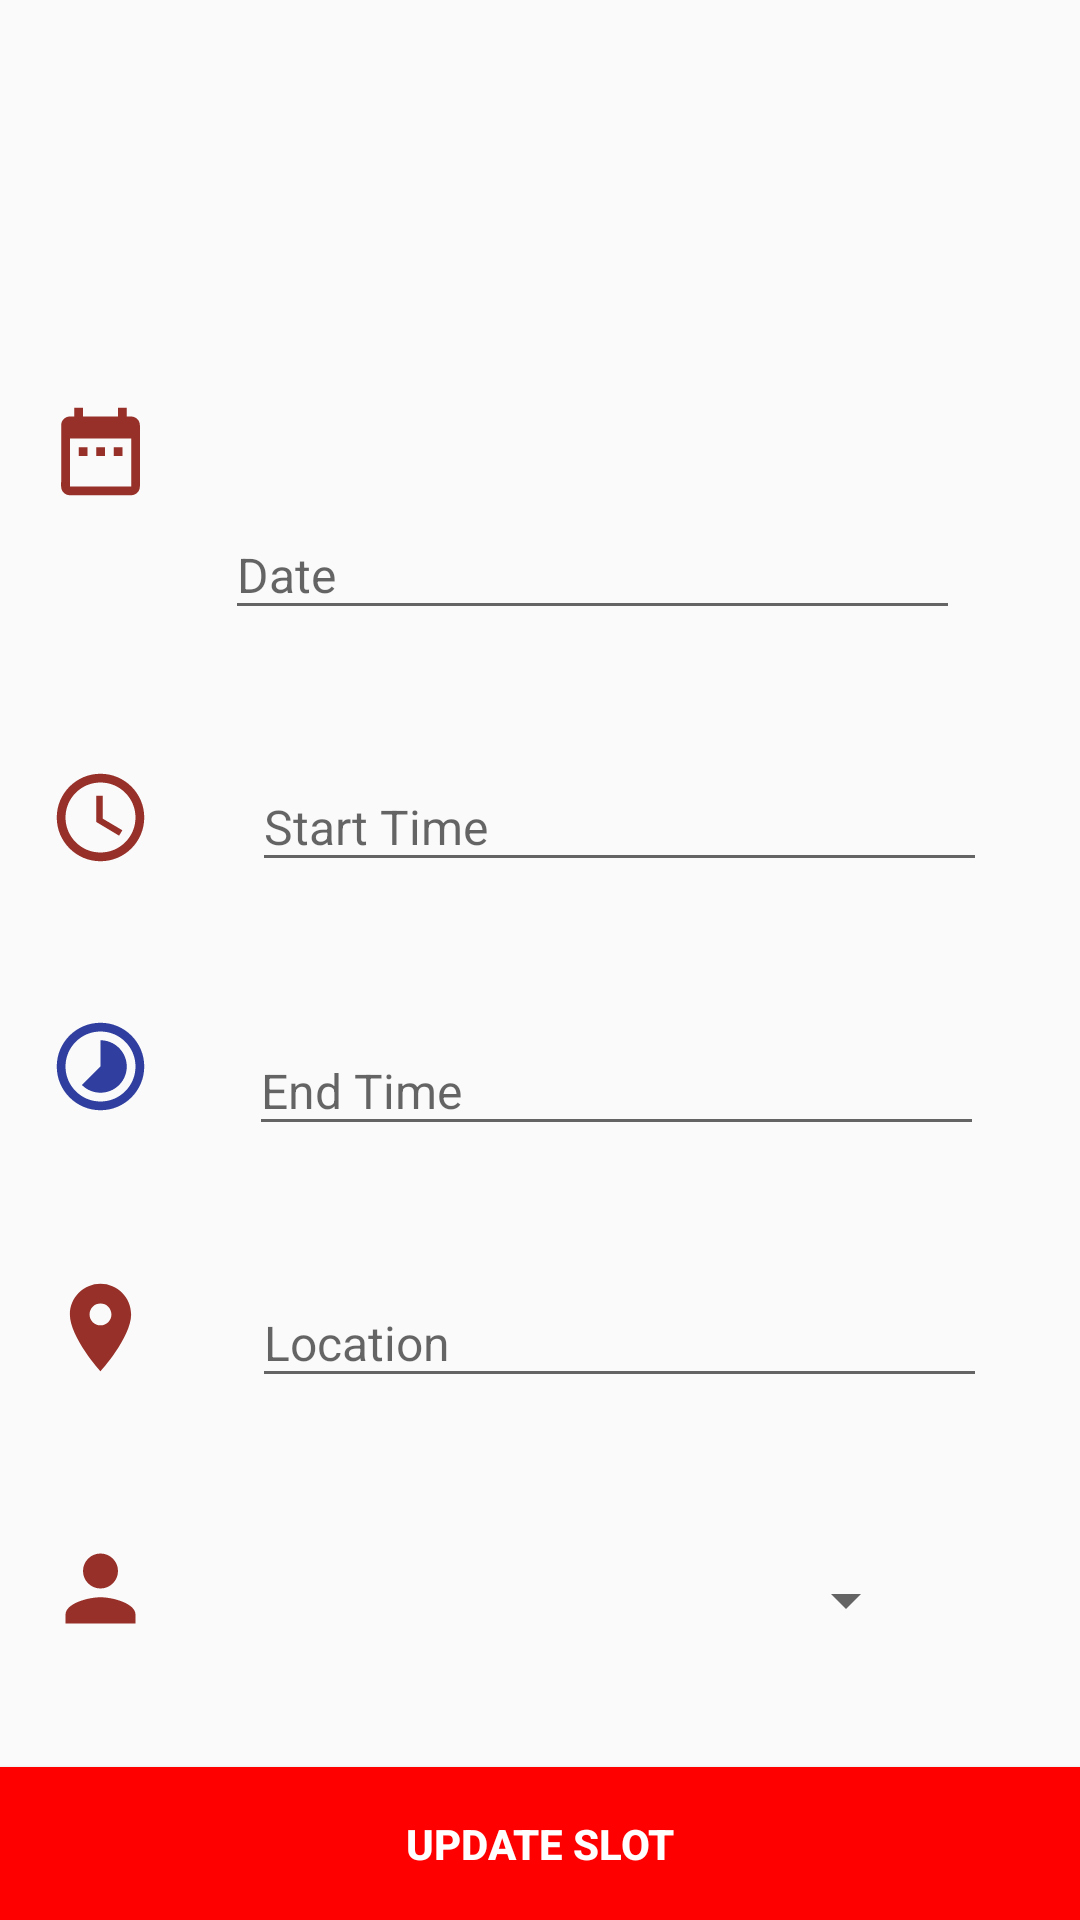

Named icons in this screenshot (1080 x 1920) and their centers, (x,y):
access time: (100,817)
person: (100,1588)
timelapse: (100,1066)
